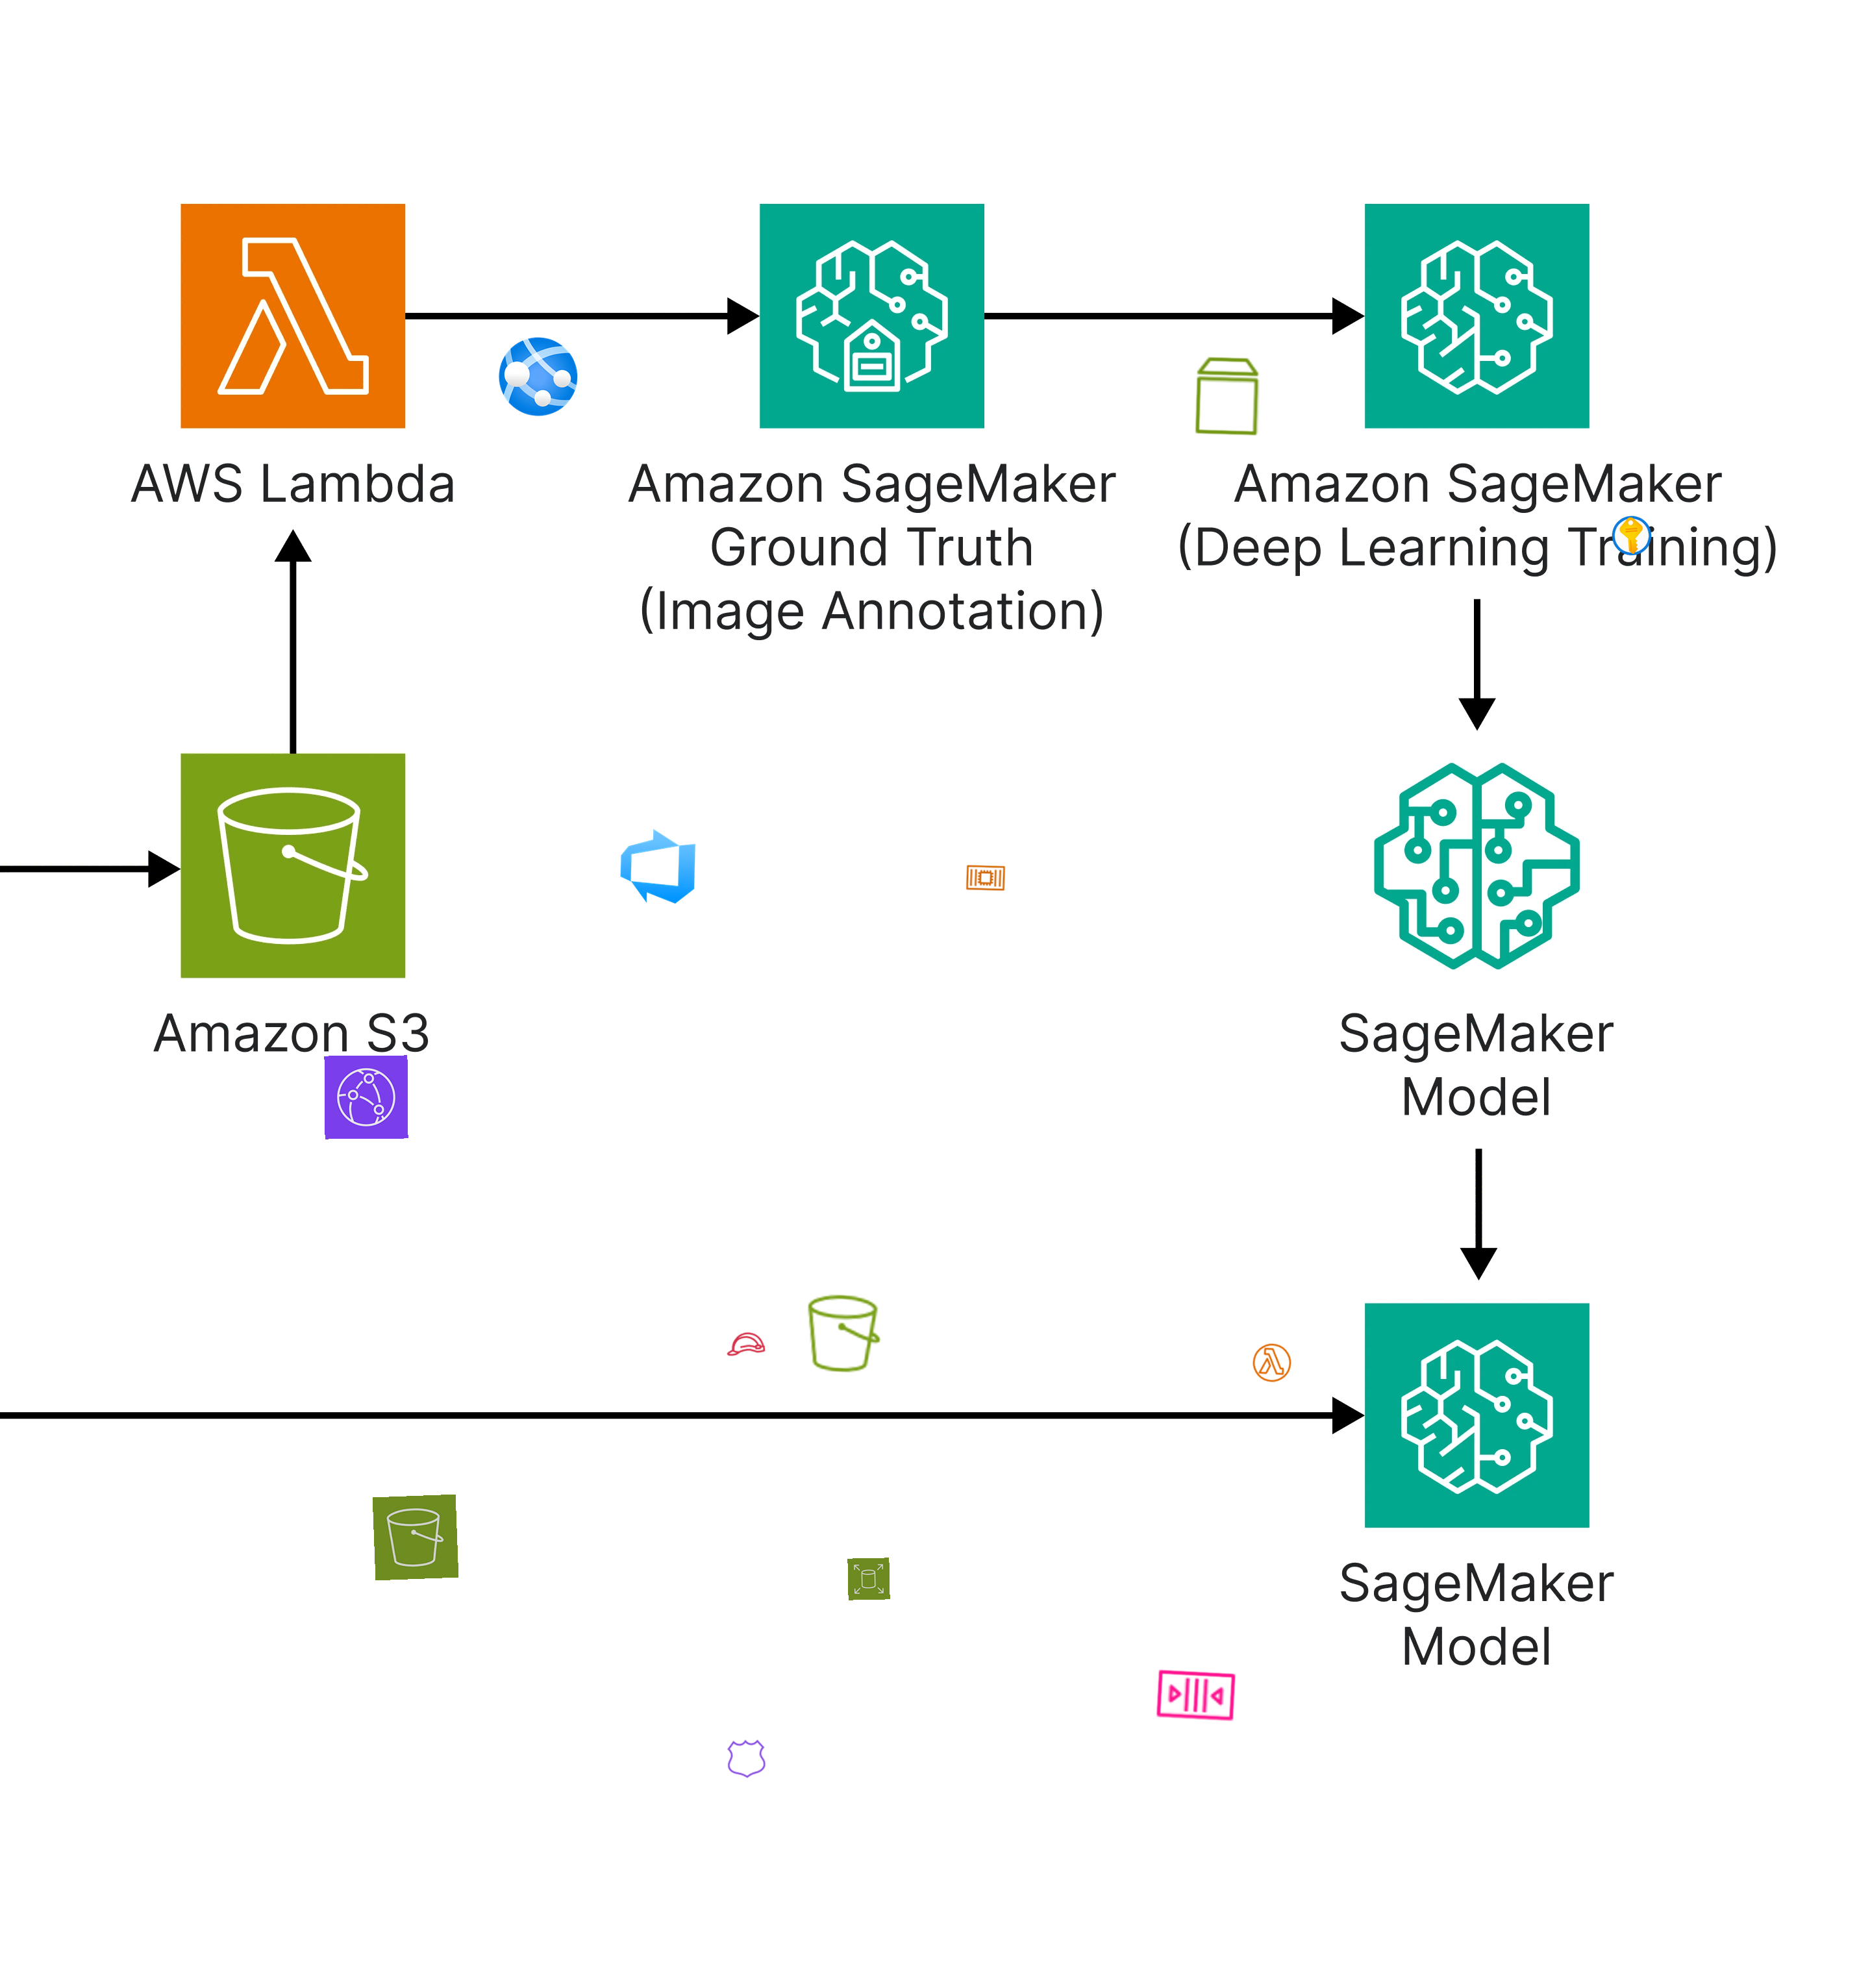aws_amazon_cloudfront: (323, 1055, 408, 1139)
aws_amazon_elastic_block_store: (847, 1557, 891, 1600)
aws_amazon_simple_storage_service: (373, 1494, 459, 1580)
aws_elastic_block_store_volume: (1185, 353, 1271, 439)
aws_elastic_container_service_container_2: (965, 856, 1007, 900)
aws_identity_access_management_role: (722, 1322, 768, 1368)
aws_lambda_lambda_function: (1250, 1341, 1294, 1385)
aws_route_53_hosted_zone: (724, 1737, 768, 1781)
aws_simple_queue_service_queue: (1151, 1651, 1241, 1738)
aws_simple_storage_service_bucket: (800, 1290, 888, 1378)
azure_app_services: (496, 332, 582, 420)
azure_devops: (615, 823, 701, 909)
azure_key_vaults: (1608, 513, 1654, 559)
